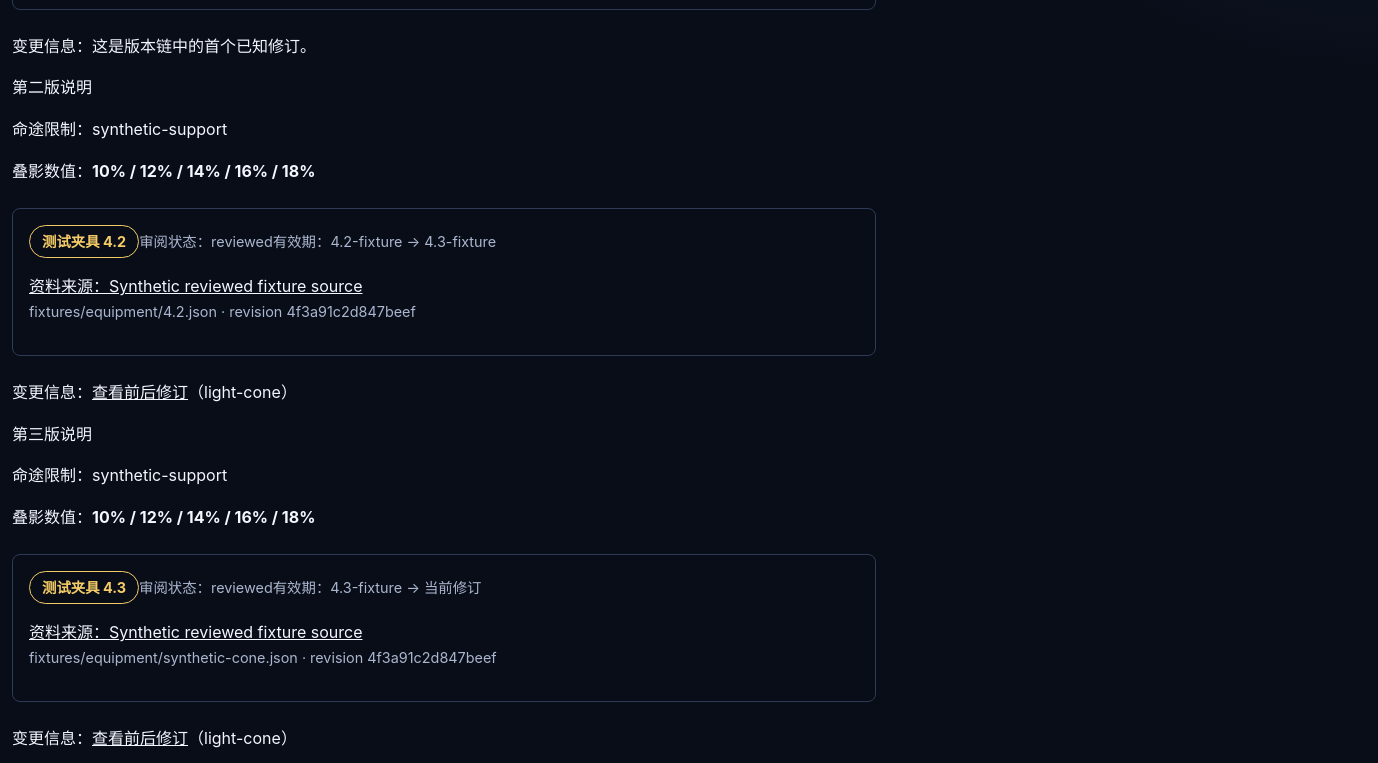
resolves each revision version and compares only adjacent releases
(page scrolled)
Check: the text "测试夹具 4.2" is shown, box top-left (29, 225), bottom-right (139, 258)
Check: the text "测试夹具 4.3" is shown, box top-left (29, 571), bottom-right (139, 604)
Click the link "查看前后修订" below "fixtures/equipment/synthetic-cone.json".
click(140, 738)  # box top-left (92, 728), bottom-right (188, 748)
(page scrolled)
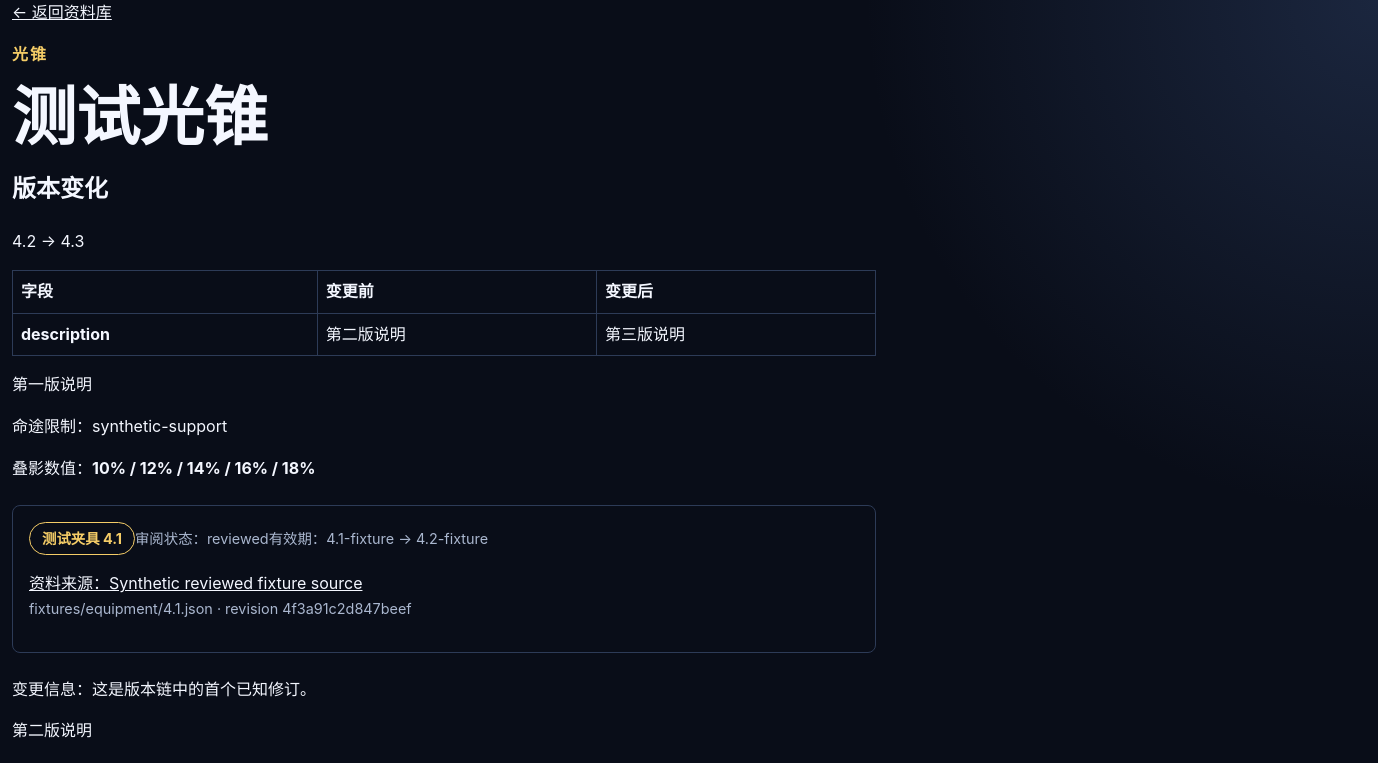
Check: the element "版本变化" shows "4.2 → 4.3", box top-left (12, 170), bottom-right (876, 356)
Check: the element "版本变化" shows "description", box top-left (21, 324), bottom-right (110, 344)
Check: the element "版本变化" shows "第二版说明", box top-left (326, 324), bottom-right (406, 344)
